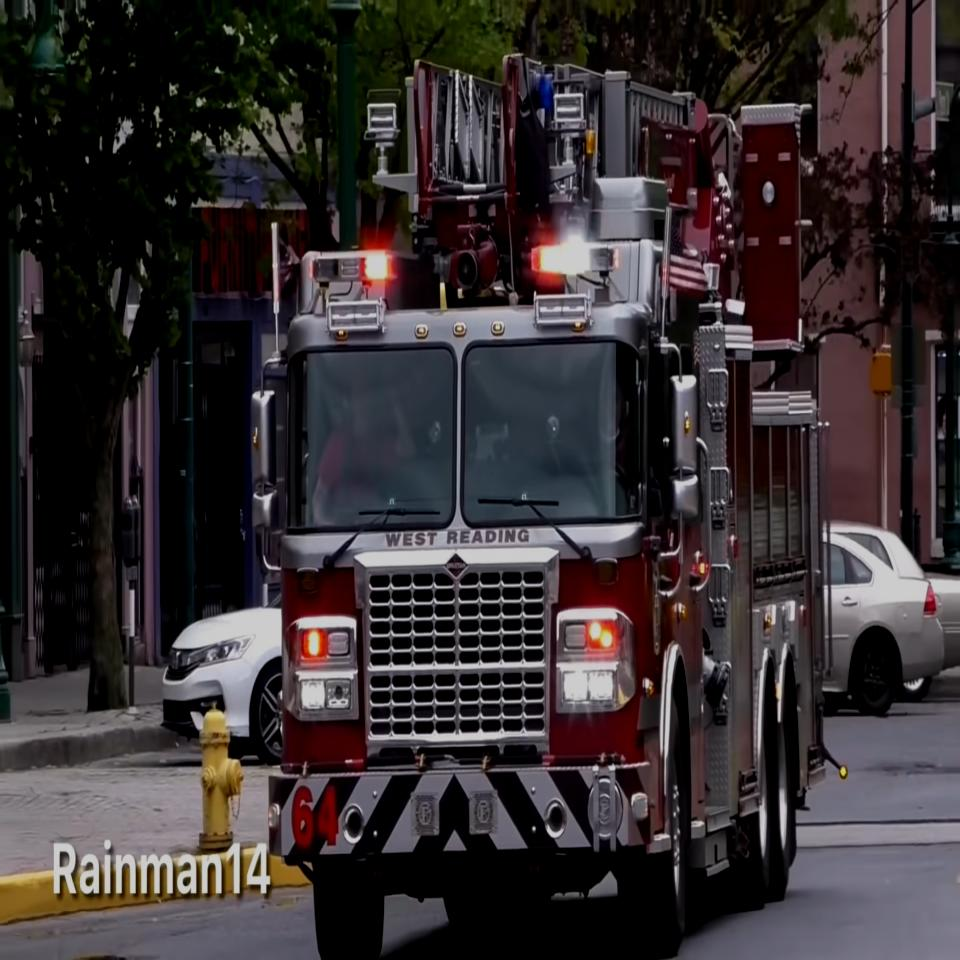bombeiro: (252, 53, 829, 960)
